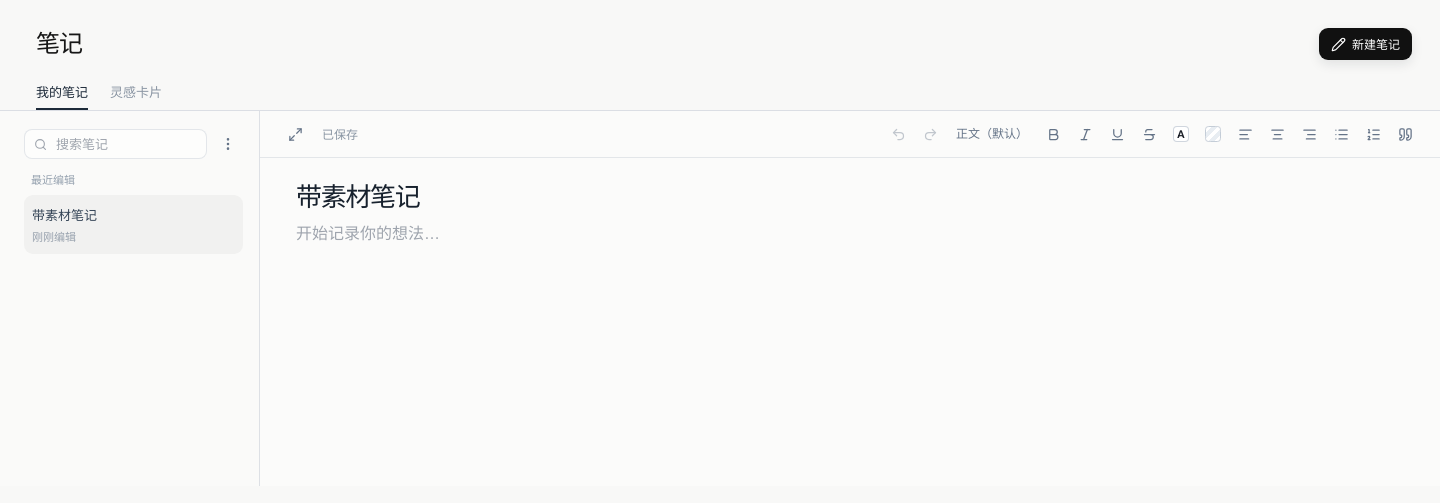
NotesWorkspace › generateFullscreenNote preserves existing content.outline when API omits outline
Click the button "带素材笔记 刚刚编辑" at (134, 224), box [24, 195, 243, 254]
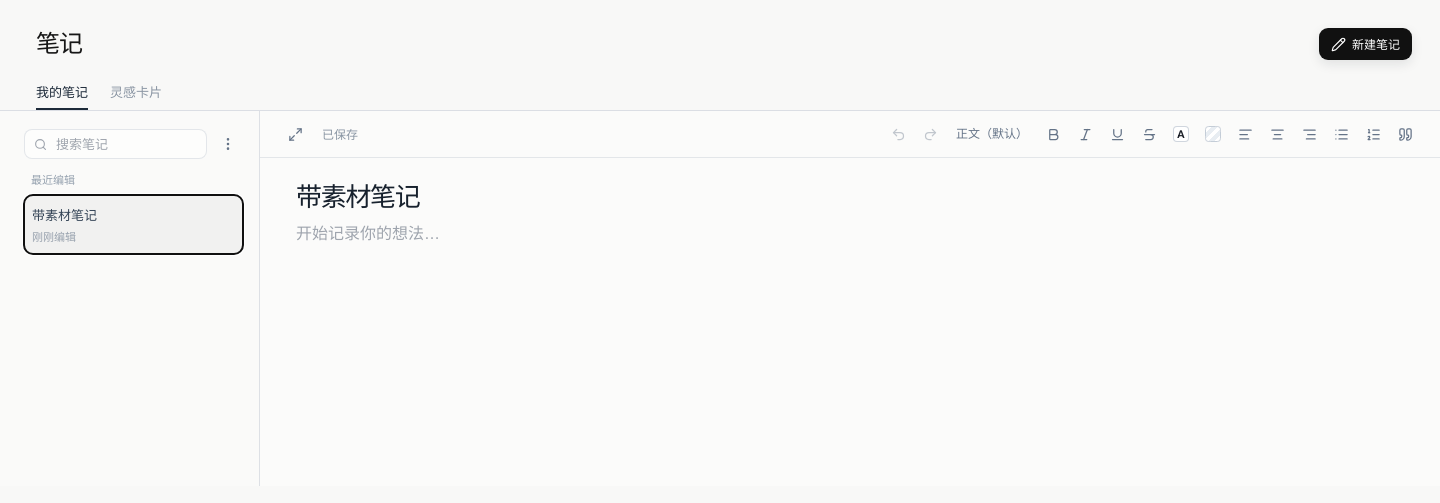
Click the button named "全屏编辑" at (295, 134), box [280, 119, 310, 149]
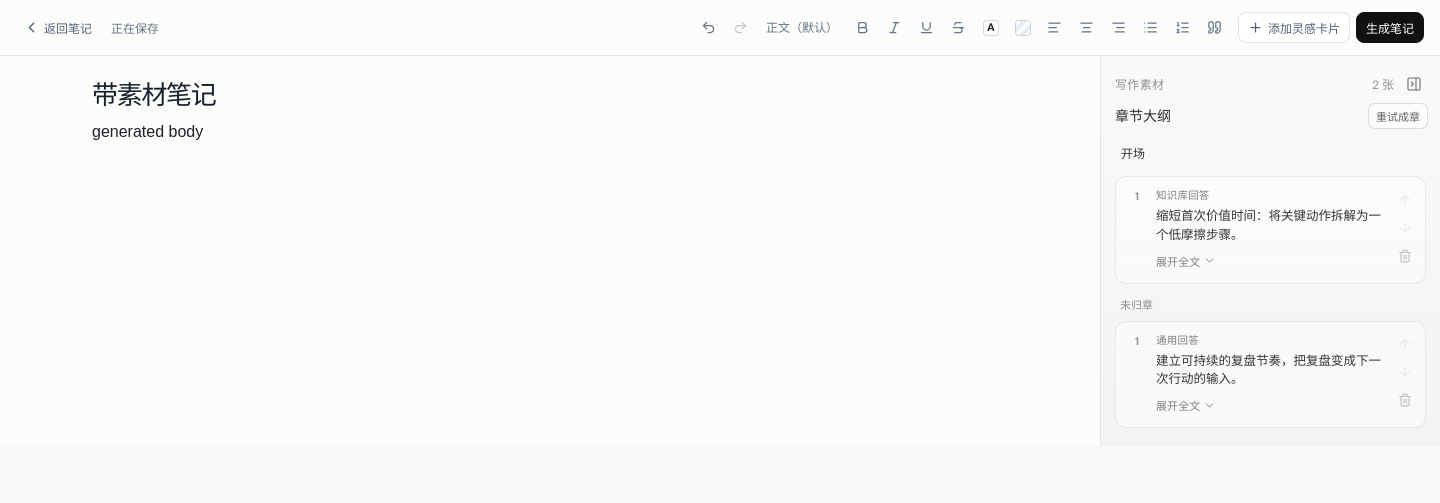
expect the text box labelled "generated body" is shown: met, box [92, 123, 203, 140]
